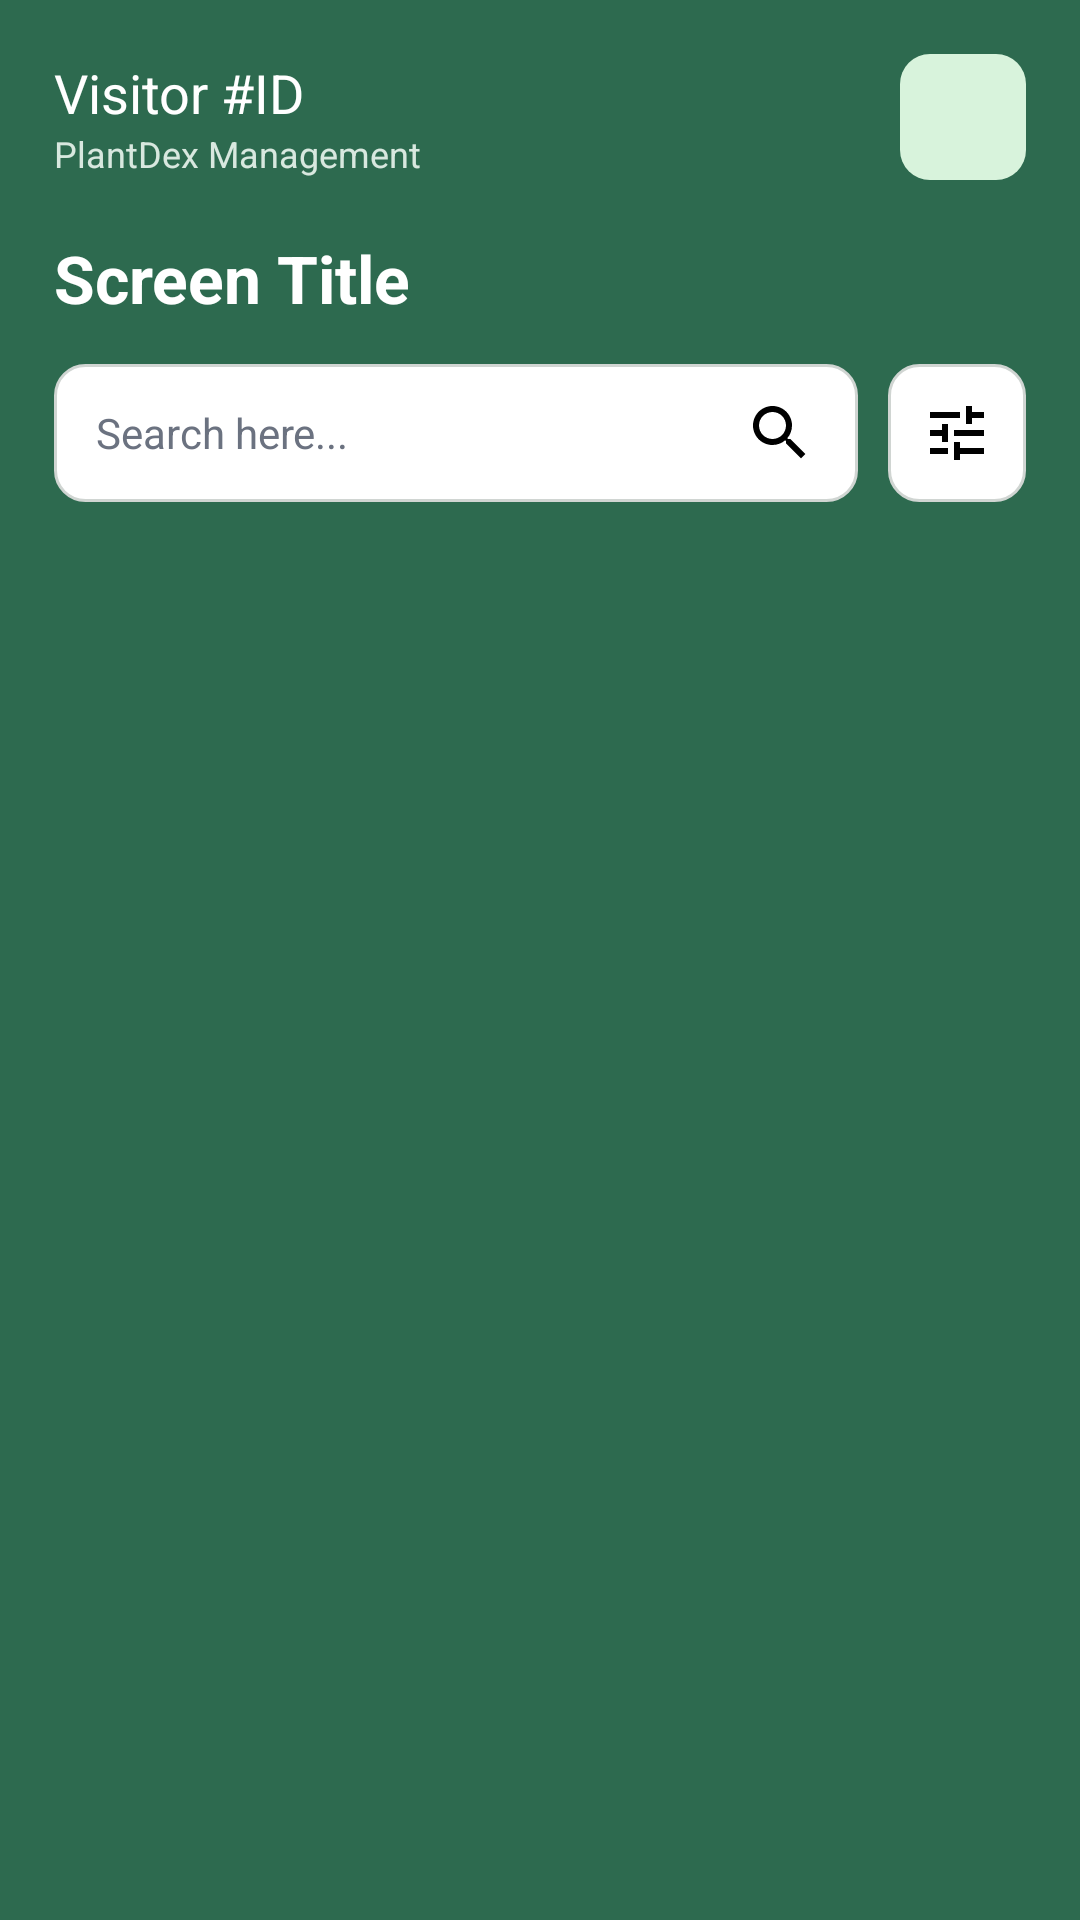

Icons on this 1080px×1920px Android screen, each with its box as (x1, y1, x2, y2):
Filter: (888, 364, 1026, 502)
